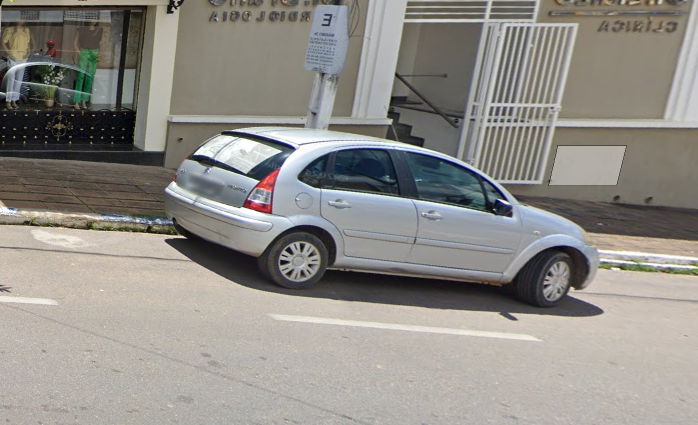car: (163, 103, 604, 321)
